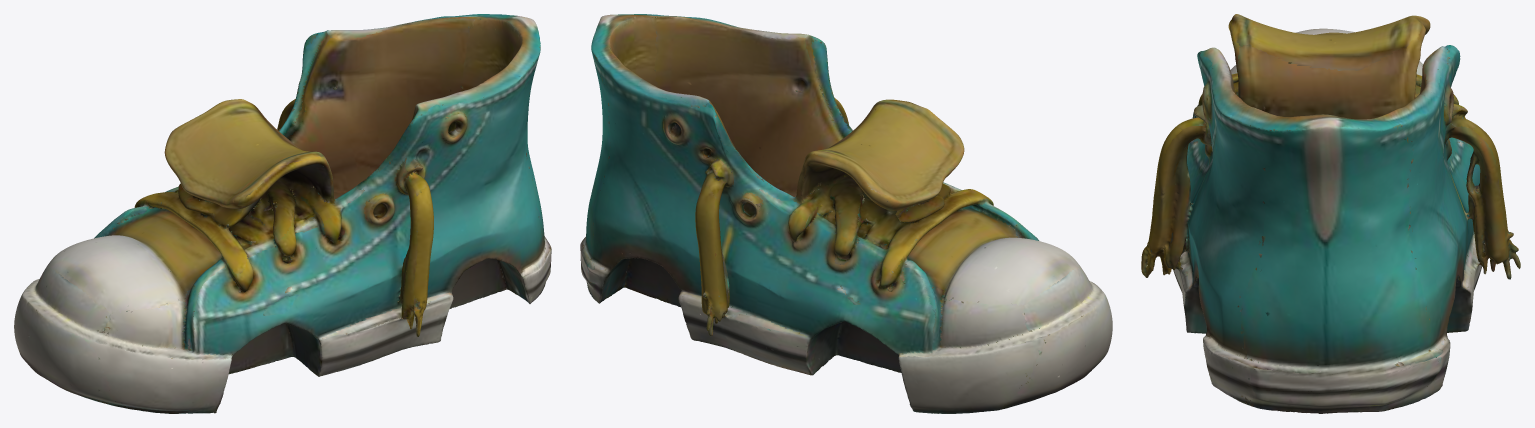
The model's file is Meshy_AI_shoe_car_0330163356_texture.glb.
3 renders of one model, left to right at view 1: azimuth 30°, elevation 25°; view 2: azimuth 150°, elevation 25°; view 3: azimuth 270°, elevation 25°, orthographic. The views are drawn at different scales.
Bounding box in the file's own units: 2 × 1.01 × 1.1.
Materials: 1 (1 with a texture image).
